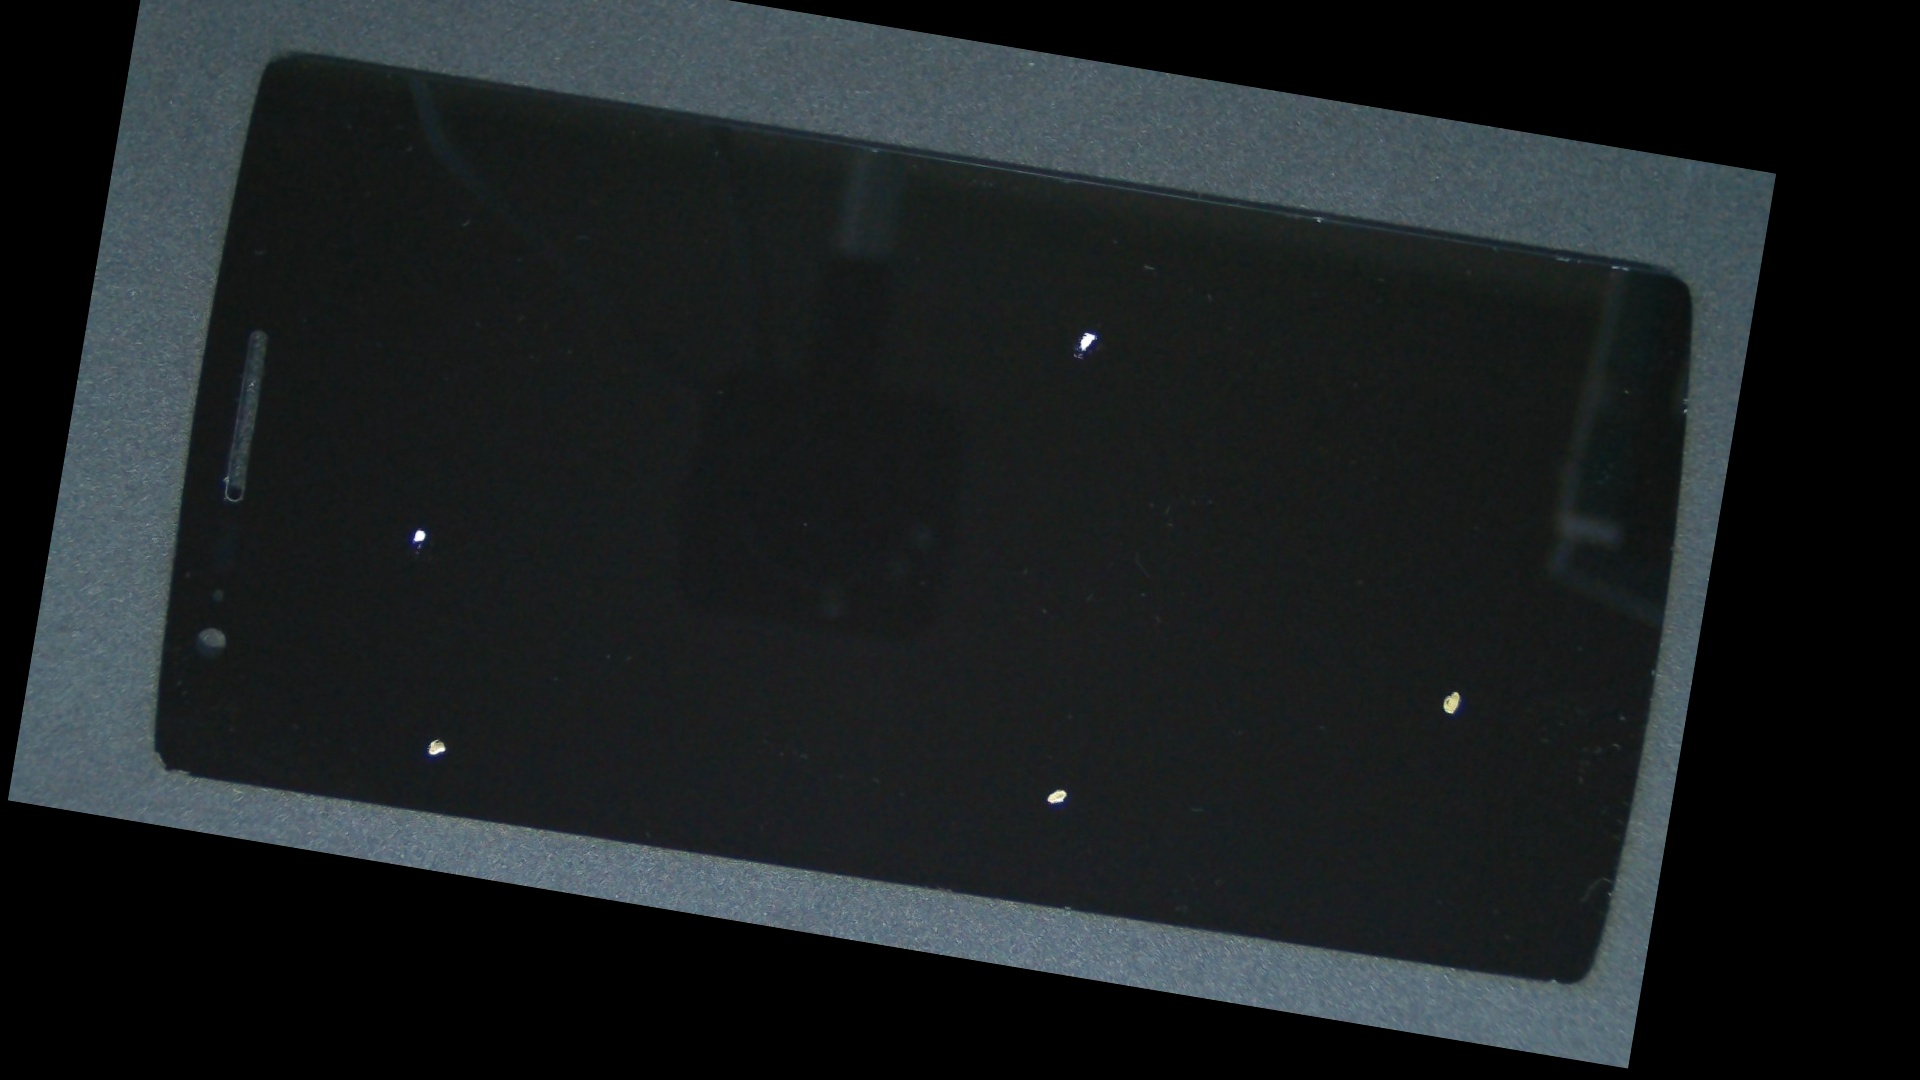oil: (518, 345, 1626, 1054), (716, 295, 1730, 1002), (578, 117, 1593, 542), (212, 320, 705, 902), (198, 218, 654, 841)
